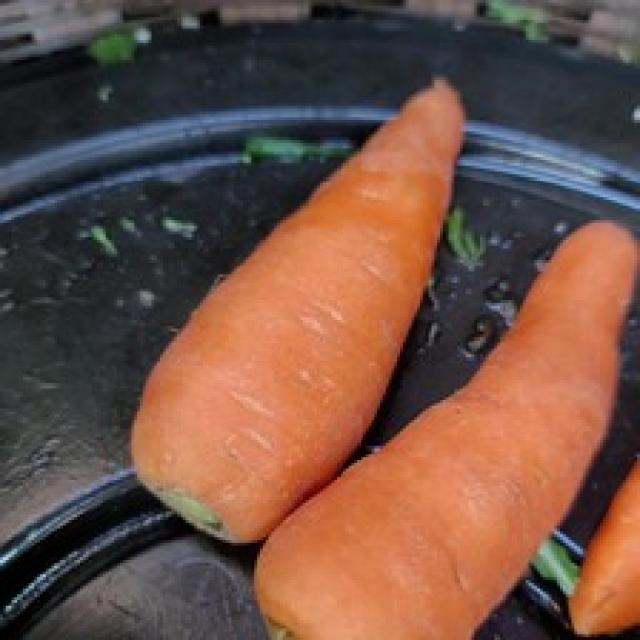carrot: (257, 222, 635, 640), (130, 78, 460, 542)
